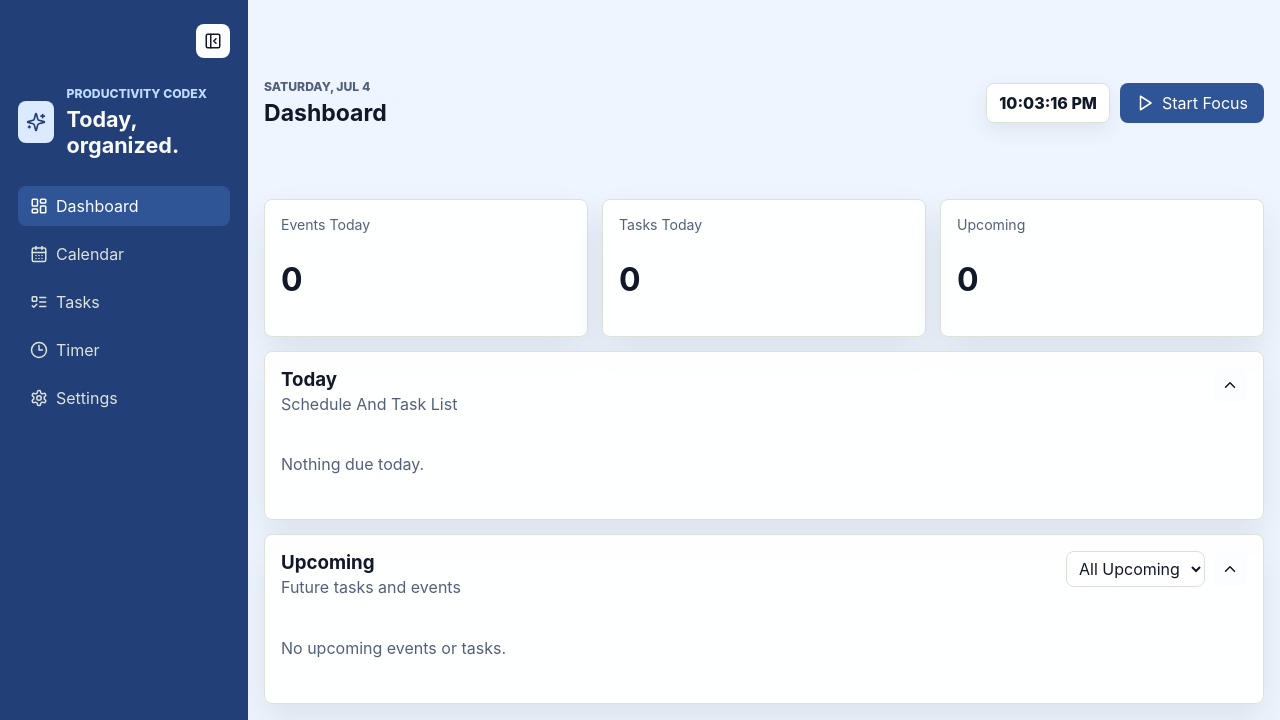
App › hides timer stop and complete actions until a timer starts
expect the heading "Dashboard" is shown: met, box [264,98,387,126]
Click the button "Timer" at (124, 350), box [18,330,230,370]
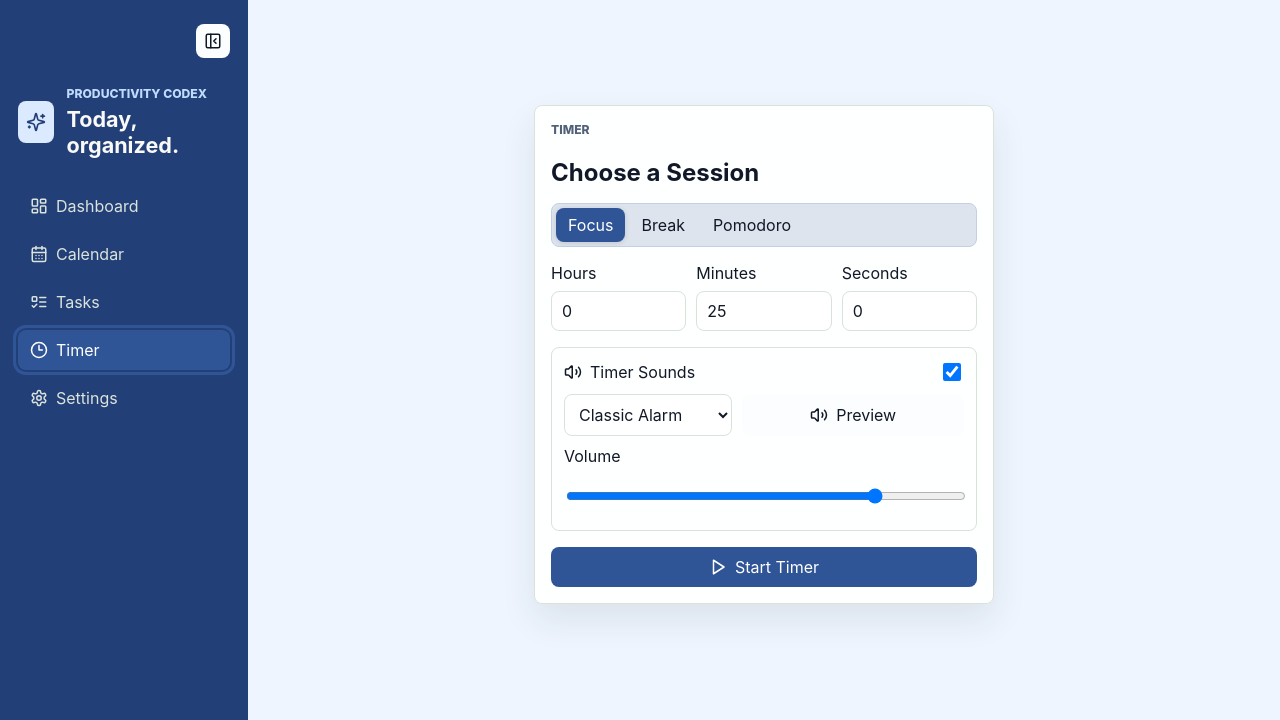
expect the button "Stop" is not shown: met
expect the button "Complete" is not shown: met
Click the button "Start Timer" at (764, 566), box [551,546,977,586]
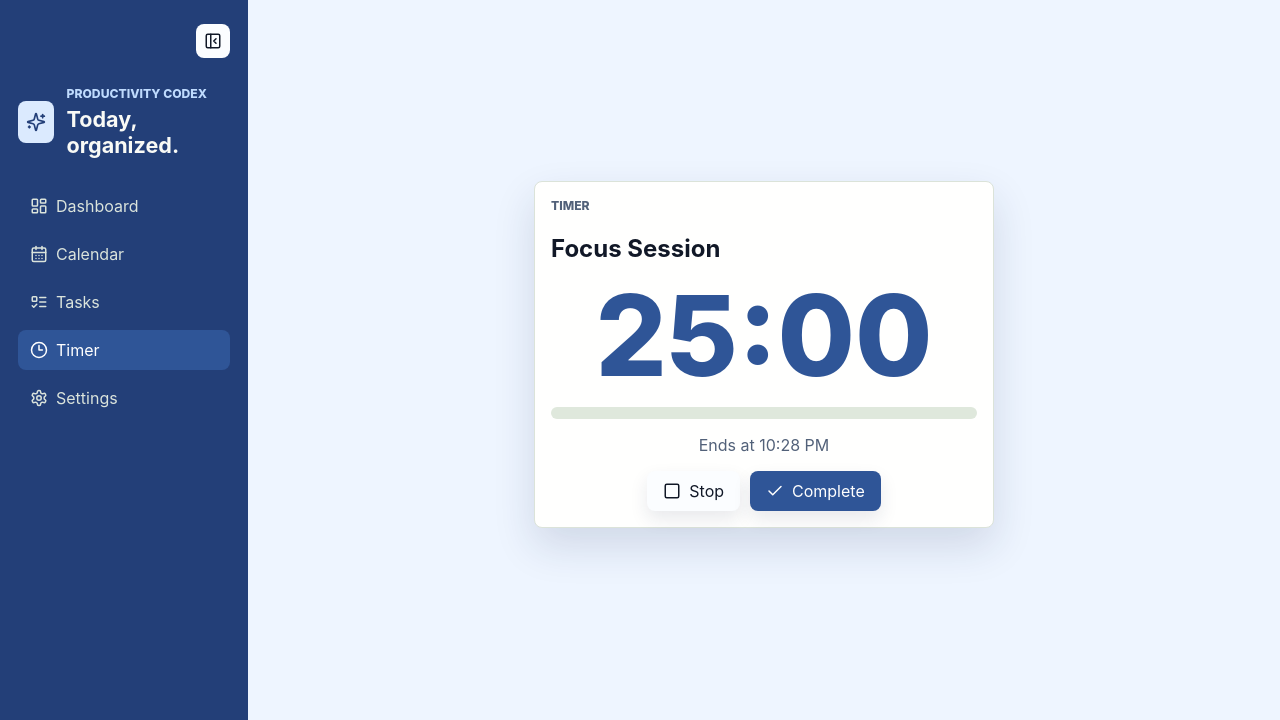
expect the heading "Focus Session" is shown: met, box [551,234,720,262]
expect the button "Stop" is shown: met, box [647,470,740,510]
expect the button "Complete" is shown: met
Click the button "Complete" at (815, 490), box [750,470,881,510]
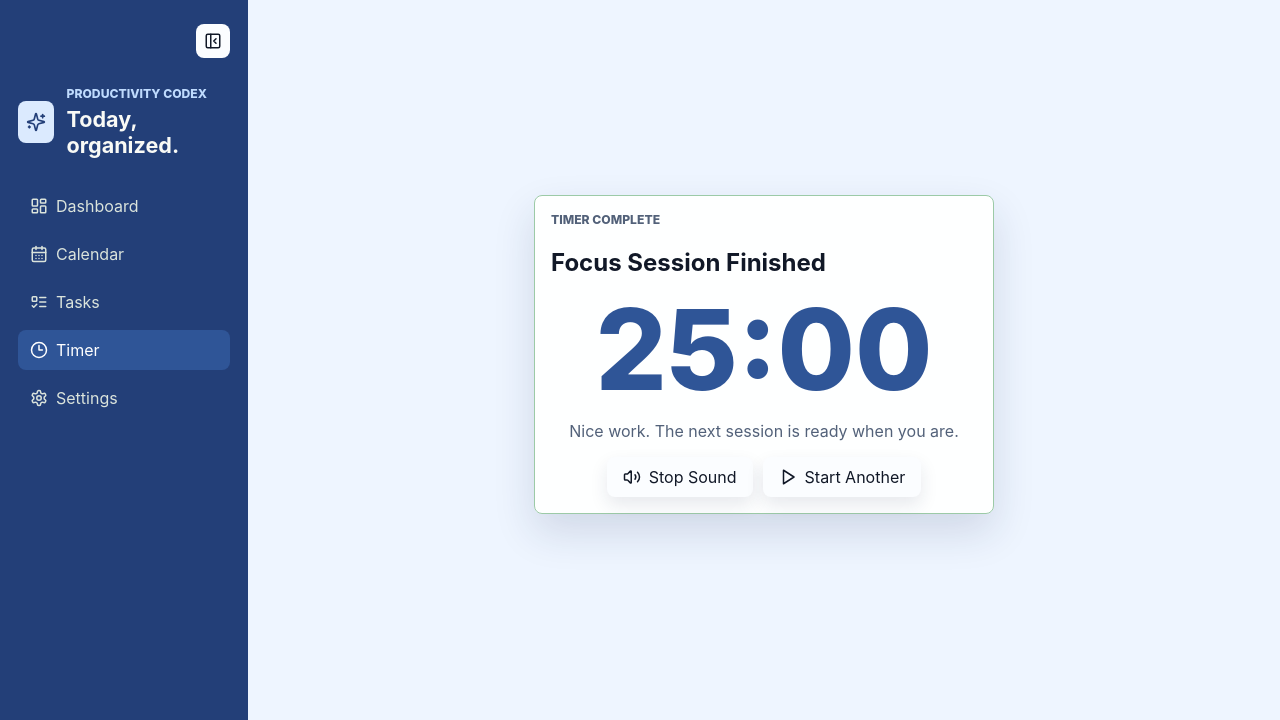
expect the text "Timer Complete" is shown: met, box [551,212,660,226]
expect the button "Stop Sound" is shown: met, box [607,456,752,496]
Click the button "Start Another" at (842, 476), box [762,456,921,496]
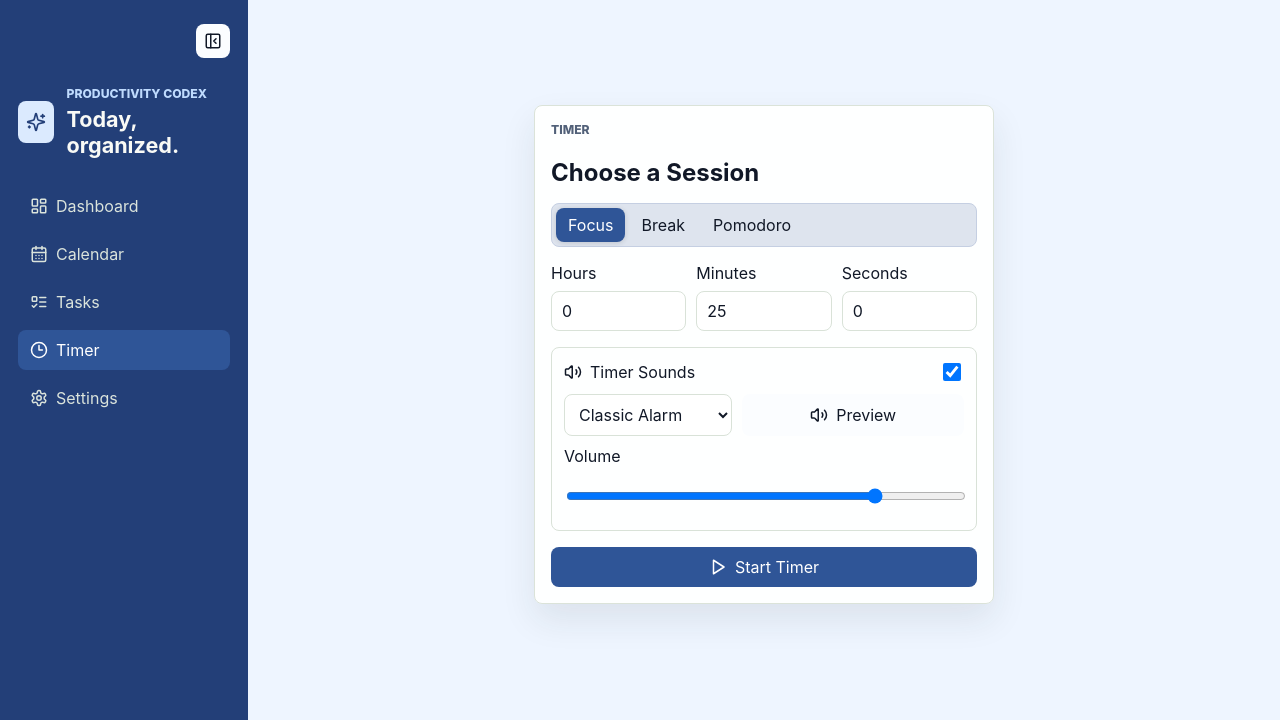
expect the heading "Choose a Session" is shown: met, box [551,158,759,186]
expect the button "Stop" is gone: met
